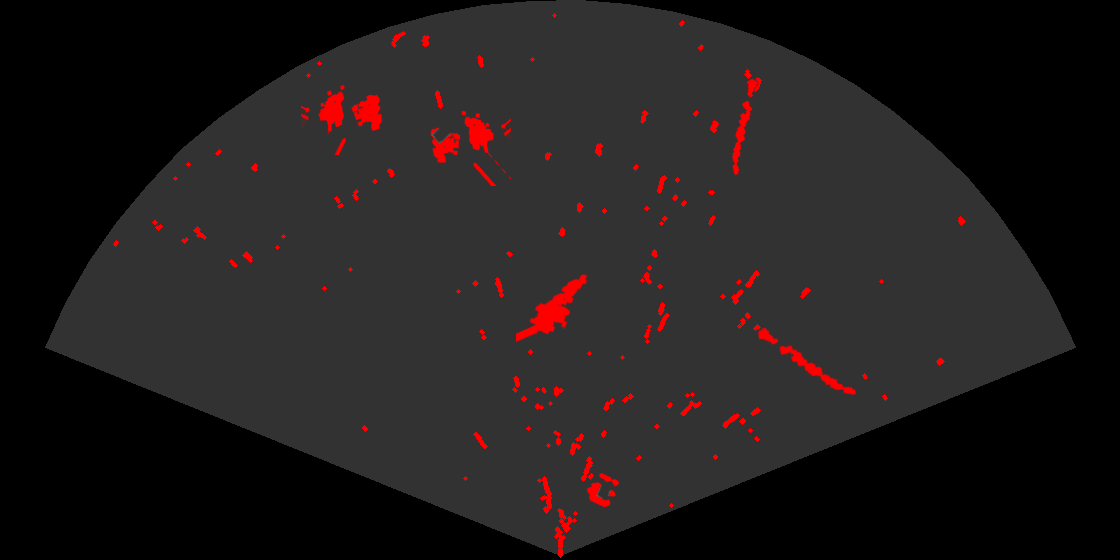ball: (585, 471, 621, 509)
cage: (429, 109, 511, 186), (301, 84, 384, 155)
chain: (756, 326, 858, 397), (731, 76, 759, 177)
frogman: (516, 272, 589, 344)
